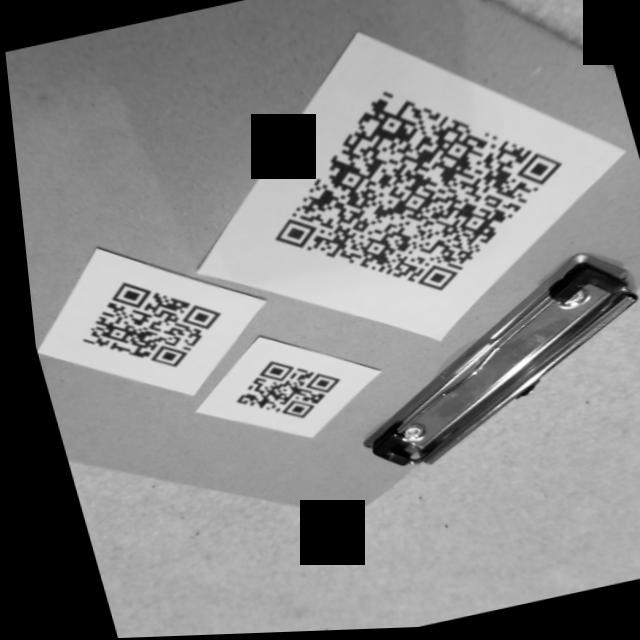QR_CODE: (198, 42, 603, 337), (42, 251, 236, 397), (209, 340, 354, 448)
